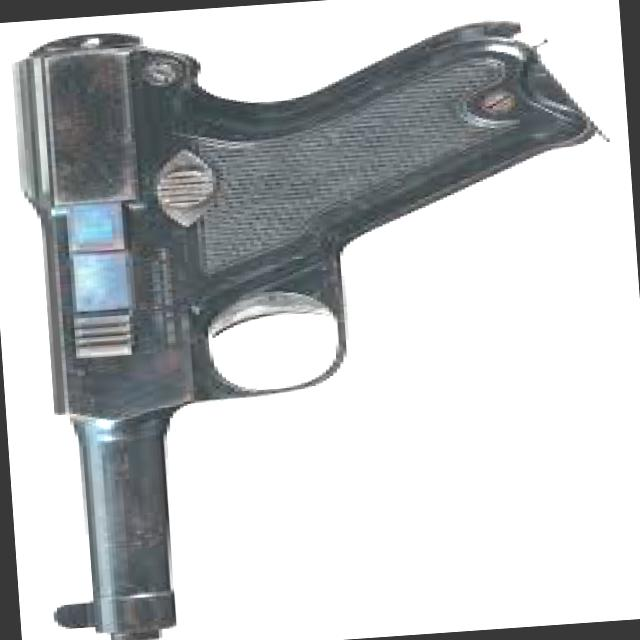handgun: (0, 0, 607, 639)
